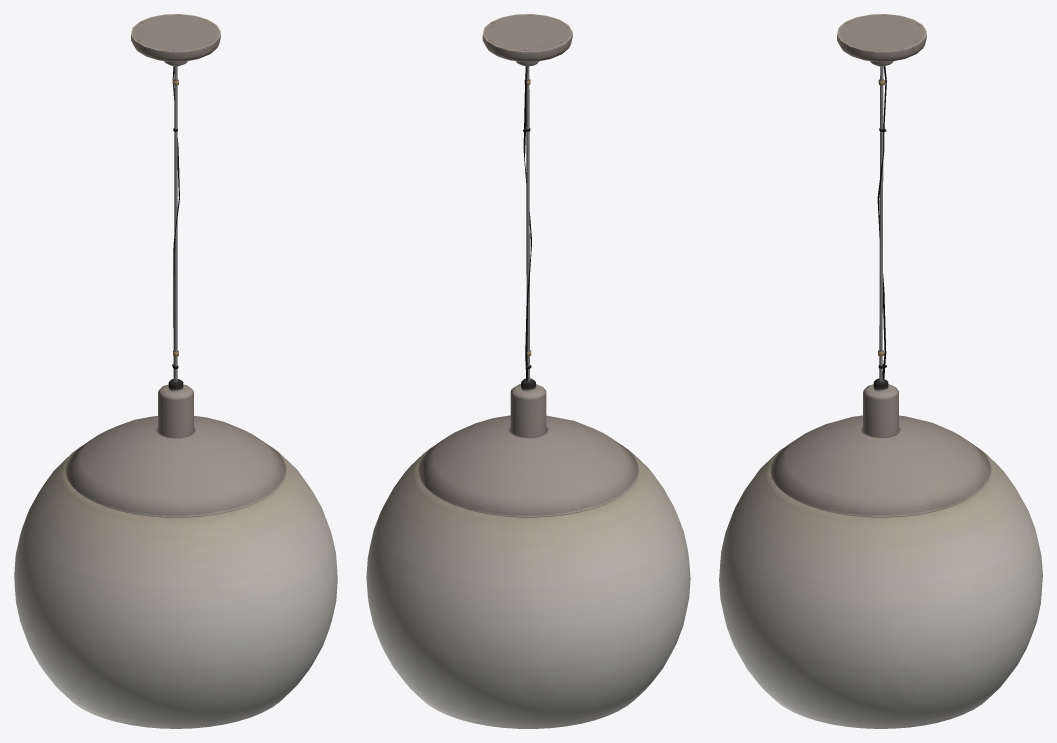
The model's file is modern_ceiling_lamp_01.glb.
3 renders of one model, left to right at view 1: azimuth 30°, elevation 25°; view 2: azimuth 150°, elevation 25°; view 3: azimuth 270°, elevation 25°, orthographic.
Parts seen in each view (by area): view 1: modern_ceiling_lamp_01; view 2: modern_ceiling_lamp_01; view 3: modern_ceiling_lamp_01.
Boxes of the visible parts, box(x1,y1,x2,y2) form: modern_ceiling_lamp_01: box(14, 14, 337, 728); modern_ceiling_lamp_01: box(366, 14, 690, 728); modern_ceiling_lamp_01: box(719, 14, 1042, 728).
Bounding box in the file's own units: 0.4316 × 0.9512 × 0.4316.
Materials: 2 (2 with a texture image).
